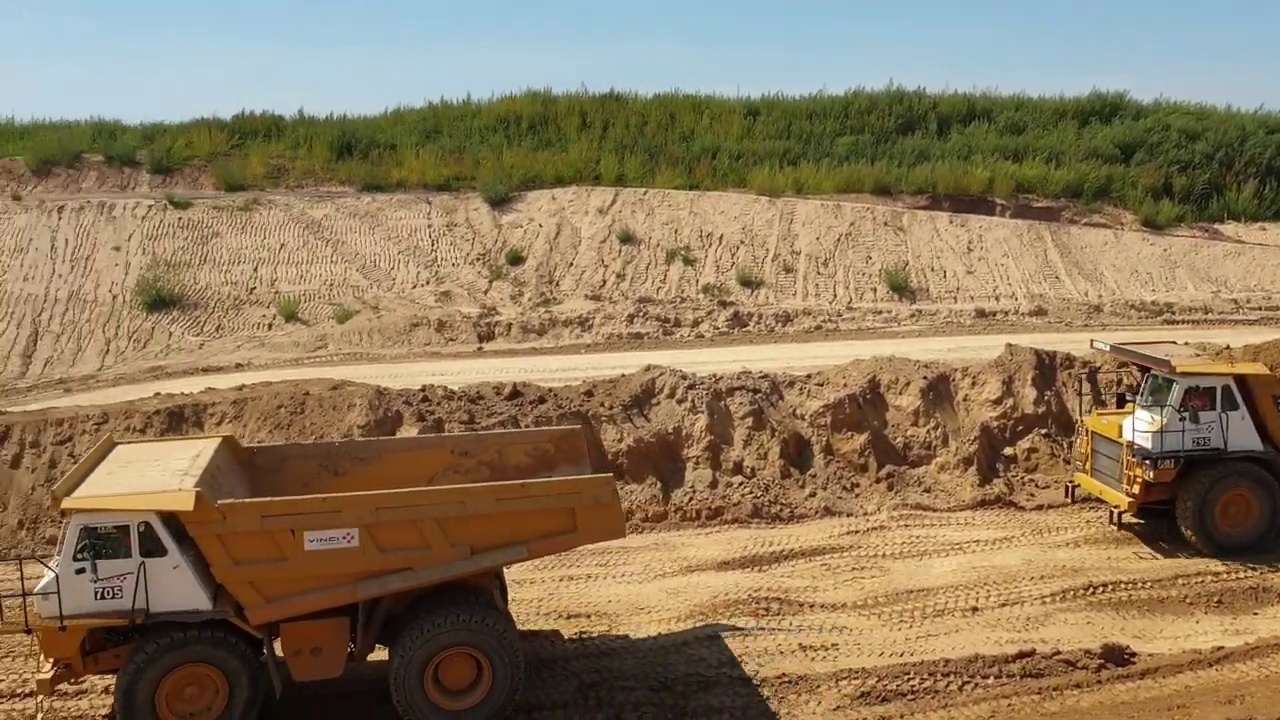truck: (22, 420, 637, 720), (1077, 326, 1280, 564)
